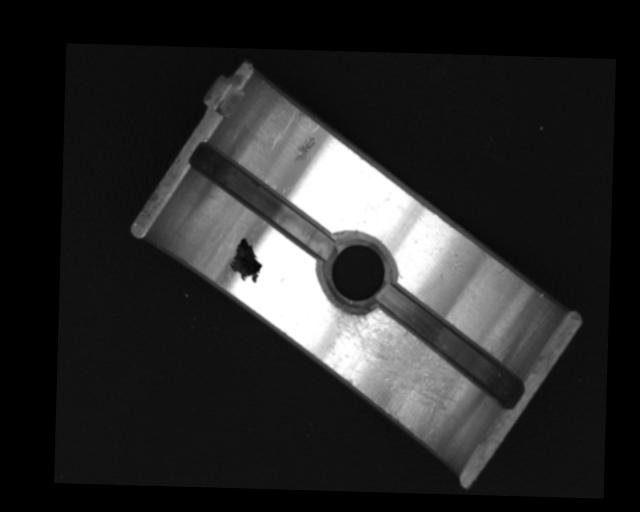blot: (228, 235, 264, 283)
bruise: (292, 135, 317, 164)
gap: (374, 282, 527, 406), (186, 140, 334, 257)
hole: (316, 231, 398, 314)
scratch: (329, 302, 468, 445)
